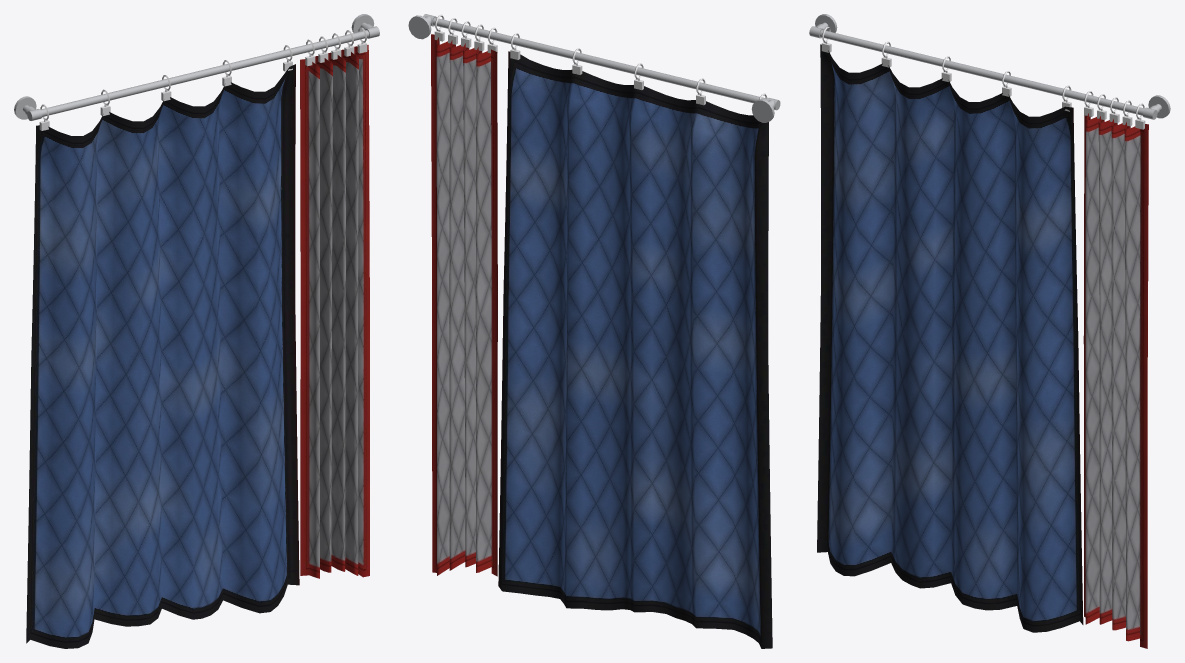
Rendered from moving-blankets.glb.
3 views of the same model, side by side, from view 1: azimuth 30°, elevation 25°; view 2: azimuth 150°, elevation 25°; view 3: azimuth 330°, elevation 25° (orthographic). The views are drawn at different scales.
Parts seen in each view (by area): view 1: blankets_v3; view 2: blankets_v3; view 3: blankets_v3.
Part boxes in pixels (bbox=[...]): blankets_v3: bbox=[14, 14, 379, 648]; blankets_v3: bbox=[408, 14, 780, 648]; blankets_v3: bbox=[809, 14, 1170, 648].
Size of the model in its own units: 1.44 by 2.15 by 0.136.
3 materials, 1 textured.
